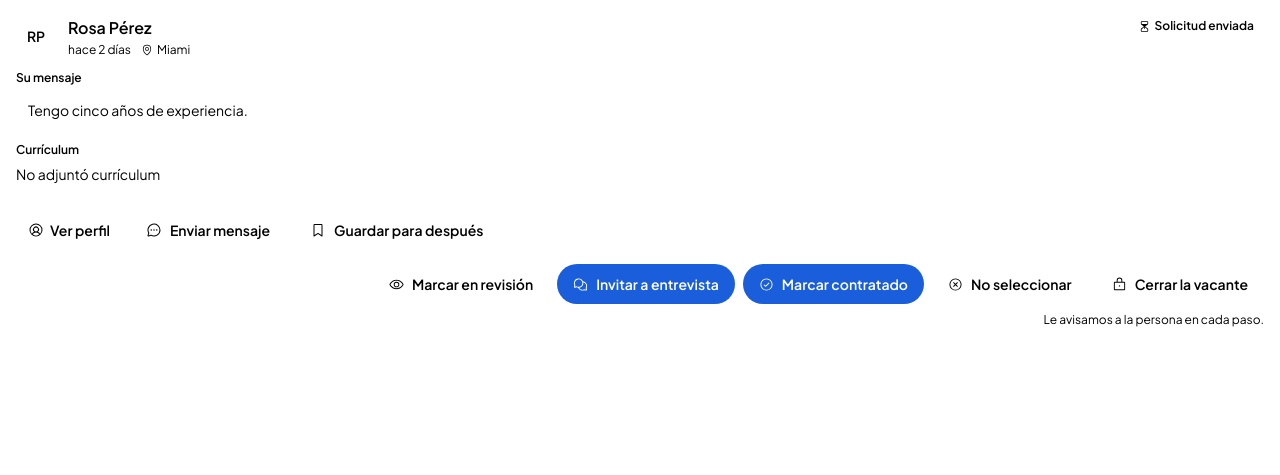
Test: CandidateCard · escribirle sin perder la lista › abrir el chat no navega: confirma acá y deja el hilo como opción
Click the button "Enviar mensaje" at [208, 230], box left=130, top=210, right=286, bottom=250
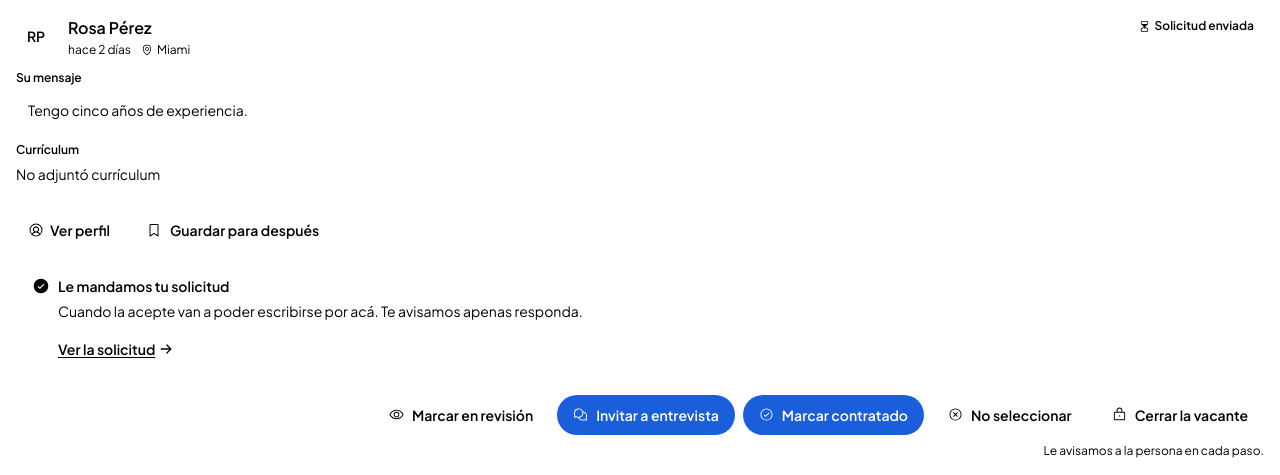
Expected: the text "Rosa Pérez" is shown, left=68, top=16, right=152, bottom=40
Result: the text "Le mandamos tu solicitud" is shown at left=32, top=277, right=230, bottom=295
